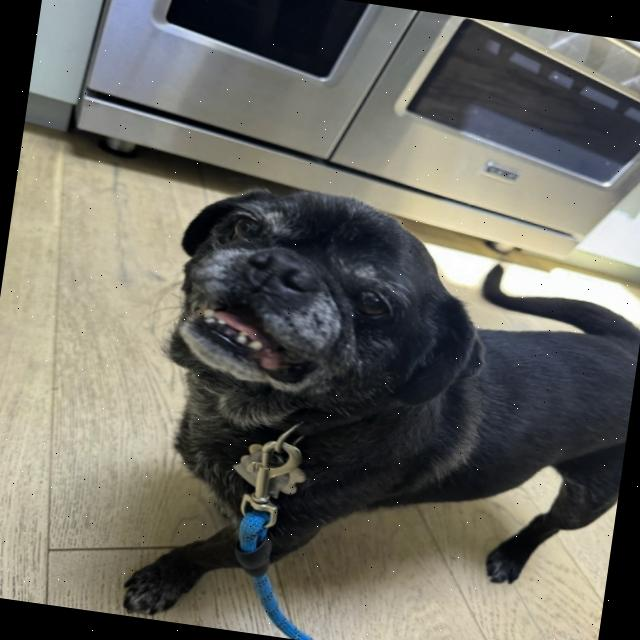pug_dog: (125, 165, 511, 462)
